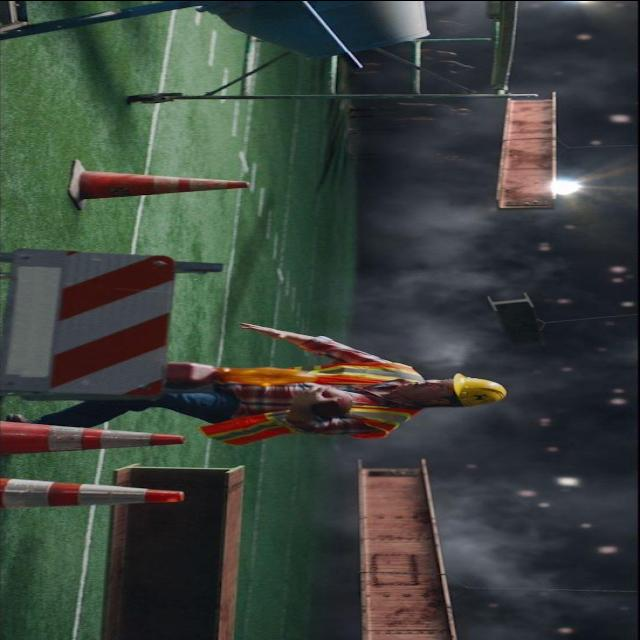helmet: (436, 368, 514, 416)
jacket: (219, 354, 419, 448)
